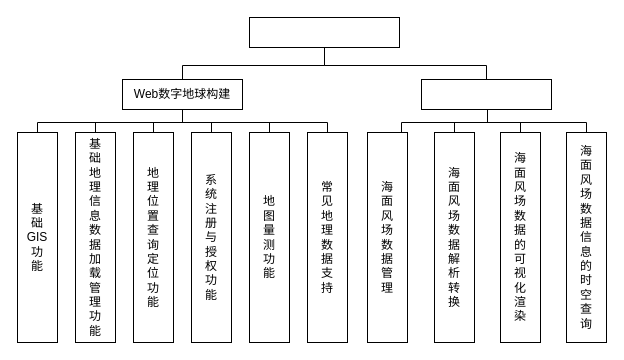
This 624x360 diagram has some shape labels left out. Each missing label, with the box of its shape:
海面风场动态可视化: (420, 78, 552, 110)
海面风场动态可视化系统: (248, 16, 400, 48)
